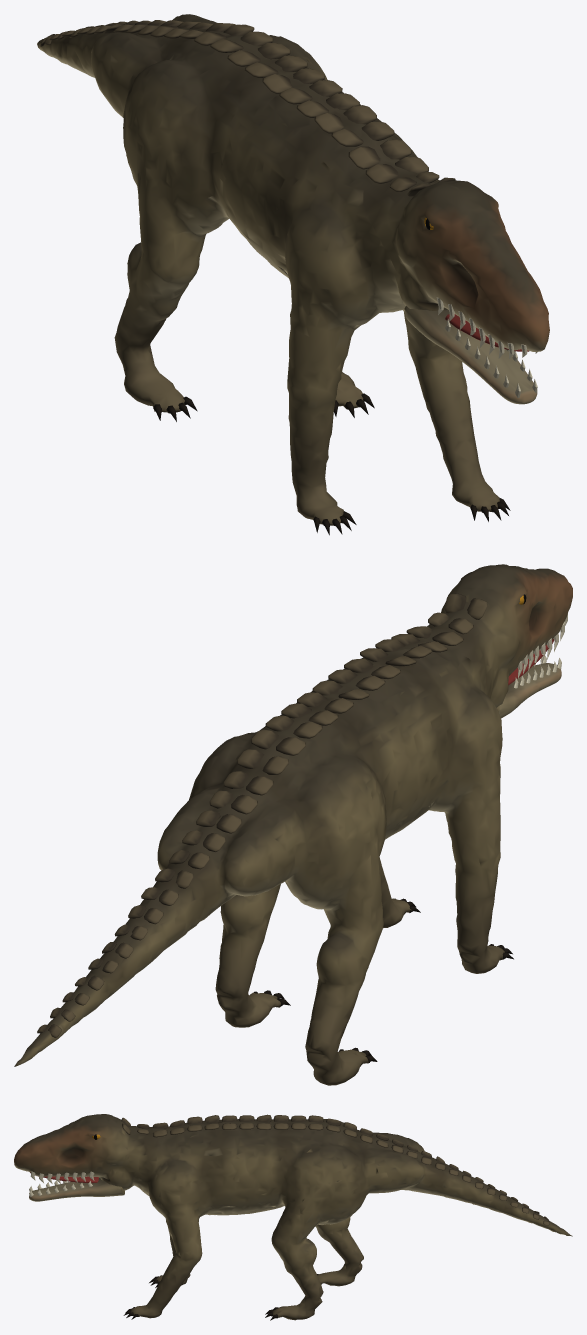
File: Postosuchus.fbx
3 renders of one model, top to bottom at view 1: azimuth 30°, elevation 25°; view 2: azimuth 150°, elevation 25°; view 3: azimuth 270°, elevation 25°, orthographic. The views are drawn at different scales.
Parts seen in each view (by area): view 1: Postosuchus; view 2: Postosuchus; view 3: Postosuchus.
Part boxes in pixels (x1,y1,x2,y2): Postosuchus: (37, 14, 549, 535); Postosuchus: (14, 564, 572, 1085); Postosuchus: (14, 1114, 572, 1320).
Size of the model in its own units: 0.431 by 0.8047 by 2.2.
